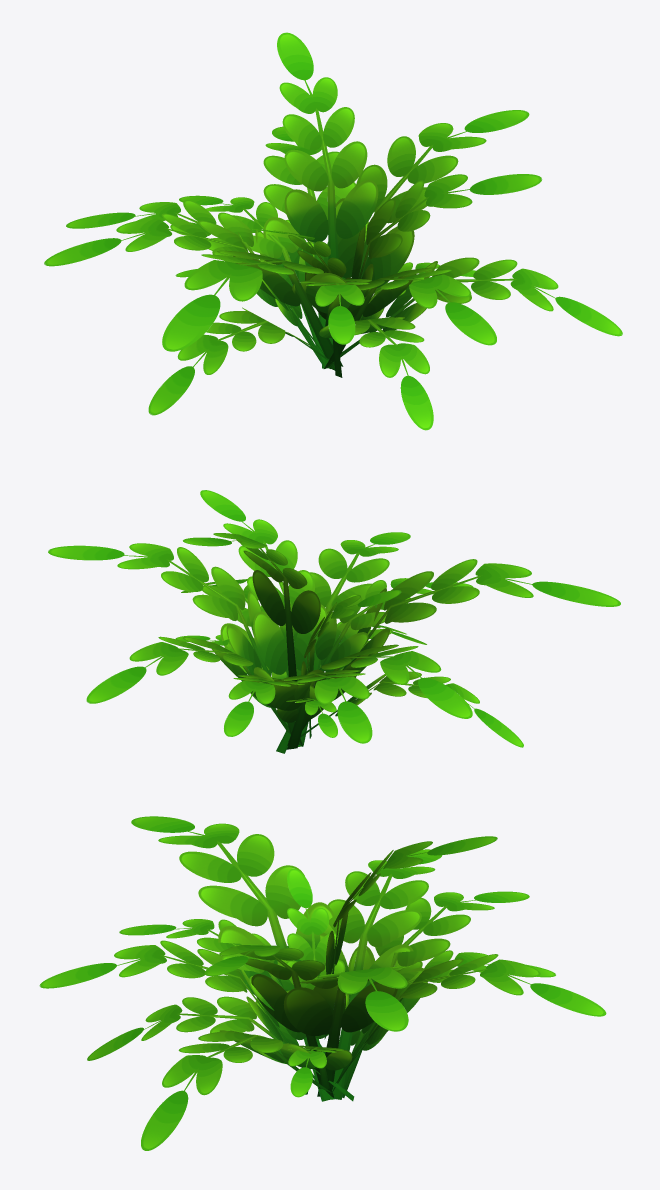
The model's file is Bush_03.FBX.
3 renders of one model, top to bottom at view 1: azimuth 30°, elevation 25°; view 2: azimuth 150°, elevation 25°; view 3: azimuth 270°, elevation 25°, orthographic. The views are drawn at different scales.
Visible parts, largest first — view 1: Bush_03; view 2: Bush_03; view 3: Bush_03.
Part boxes in pixels (bbox=[...]): Bush_03: bbox=[44, 32, 622, 430]; Bush_03: bbox=[48, 490, 620, 753]; Bush_03: bbox=[39, 816, 606, 1150].
Size of the model in its own units: 0.9408 by 0.4334 by 0.883.
